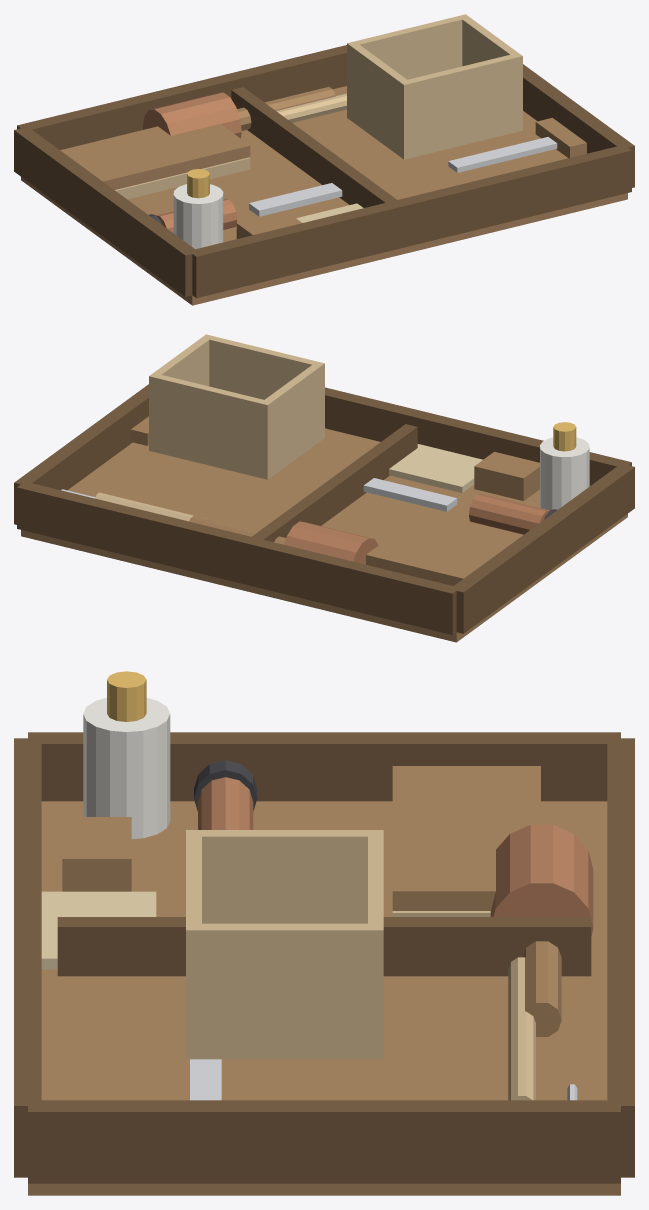
Rendered from project-kit-C26Ug6zF.glb.
The picture shows the model from 3 angles, top to bottom: view 1: azimuth 30°, elevation 25°; view 2: azimuth 150°, elevation 25°; view 3: azimuth 270°, elevation 25°; orthographic projection. The views are drawn at different scales.
Visible parts, largest first — view 1: KitBox, BuildBox; view 2: KitBox, BuildBox; view 3: KitBox, BuildBox.
Boxes of the visible parts, <box> form: KitBox: <box>14,45,634,305</box>; BuildBox: <box>347,14,522,159</box>; KitBox: <box>14,384,634,642</box>; BuildBox: <box>149,334,324,479</box>; KitBox: <box>14,671,634,1195</box>; BuildBox: <box>186,830,383,1059</box>.
Bounding box in the file's own units: 0.454 × 0.12 × 0.314.
